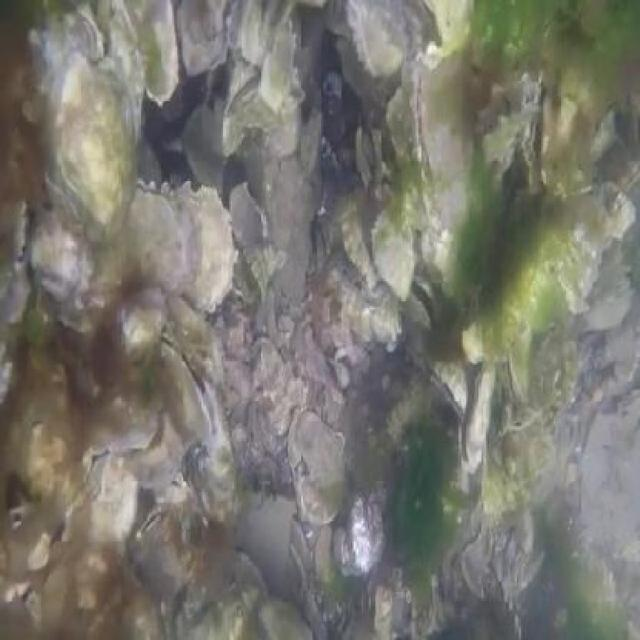Oyster-Closed: (414, 42, 475, 232), (123, 176, 208, 294), (170, 184, 235, 319), (283, 405, 348, 528), (159, 333, 220, 442), (1, 201, 30, 292), (428, 357, 469, 418), (501, 328, 531, 408), (75, 11, 103, 64), (136, 510, 164, 541)
Oyster-Indeterminate: (41, 45, 136, 246), (176, 553, 268, 638), (192, 405, 238, 525), (30, 217, 91, 305), (335, 489, 387, 581), (87, 393, 164, 455), (349, 0, 410, 74), (372, 207, 416, 298), (340, 194, 377, 283), (259, 597, 309, 638)
Oyster-Open: (475, 77, 541, 177), (458, 361, 496, 475), (525, 58, 556, 194), (406, 276, 438, 329)
